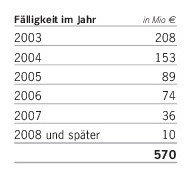table: (0, 0, 189, 180)
